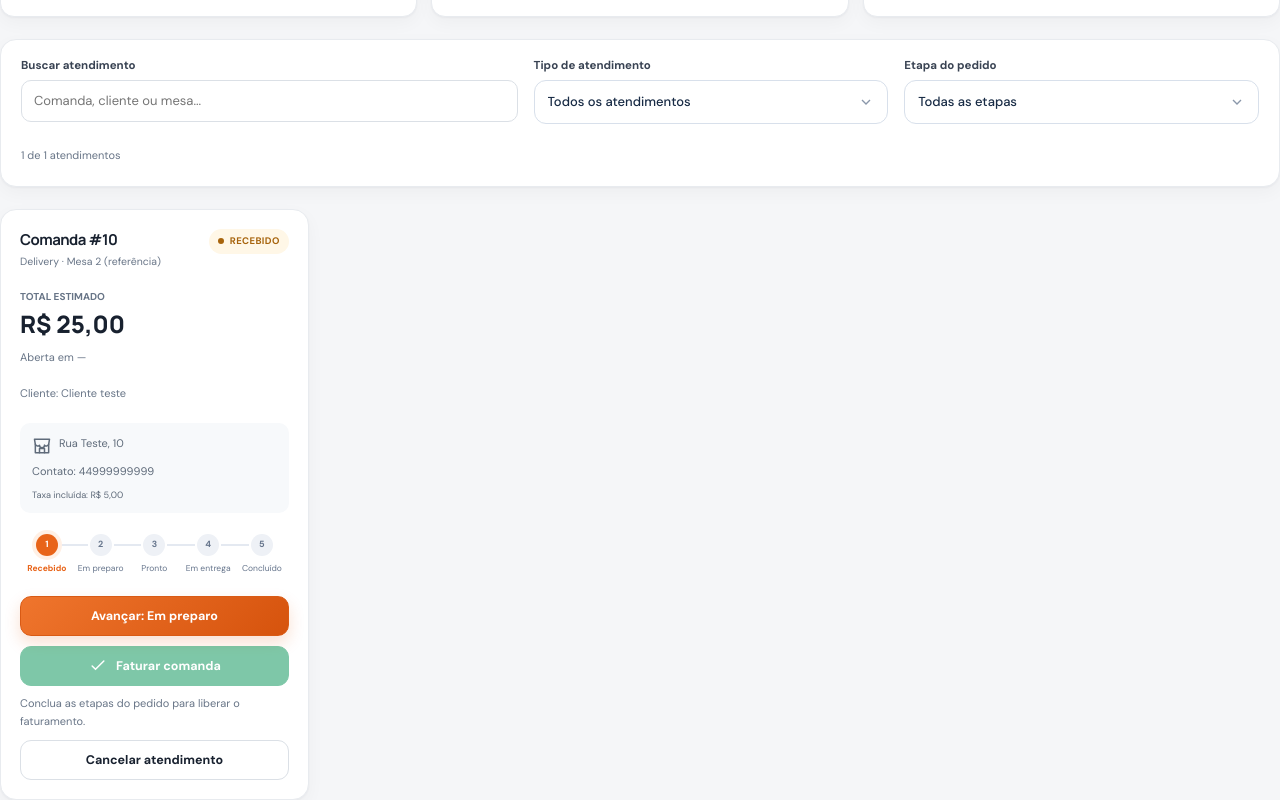
cancelamento administrativo confirma a intenção e mostra falhas no dialog
(page scrolled)
Expected: the heading "Comanda #10" is shown, [20,229,117,250]
Click the button "Cancelar atendimento".
click(154, 760)  # box [20,740,289,780]
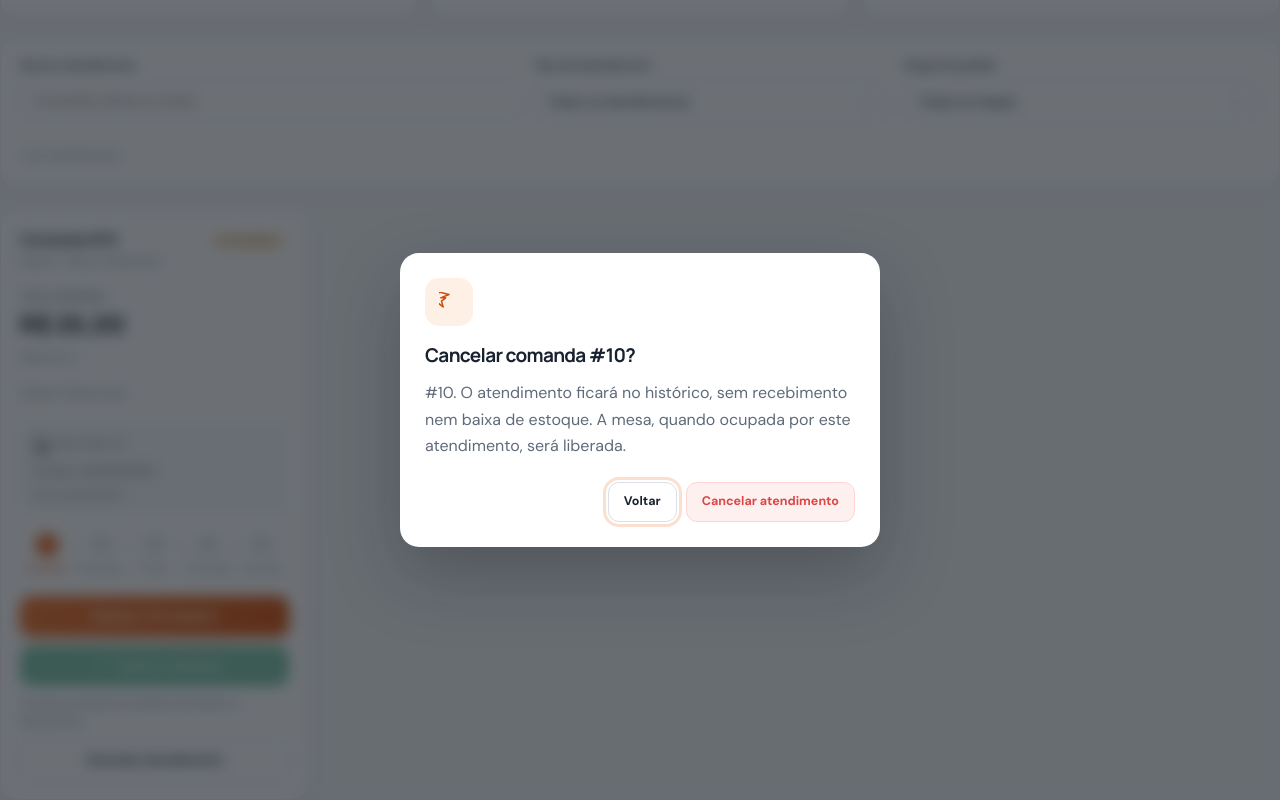
Click the button "Cancelar atendimento".
click(770, 502)  # box [686,482,855,522]
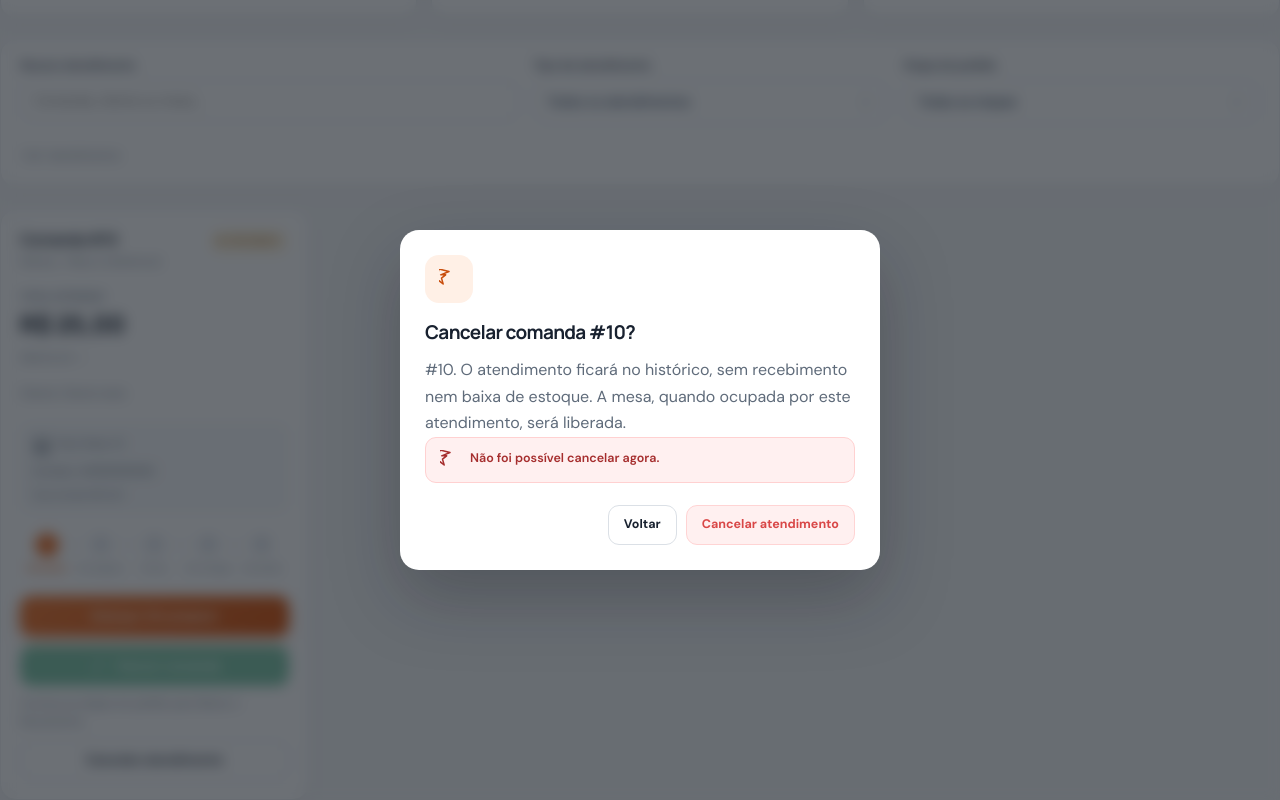
Expected: the message reads "Não foi possível cancelar agora.", [470,450,659,466]
Click the button "Cancelar atendimento".
click(770, 525)  # box [686,505,855,545]
(page scrolled)
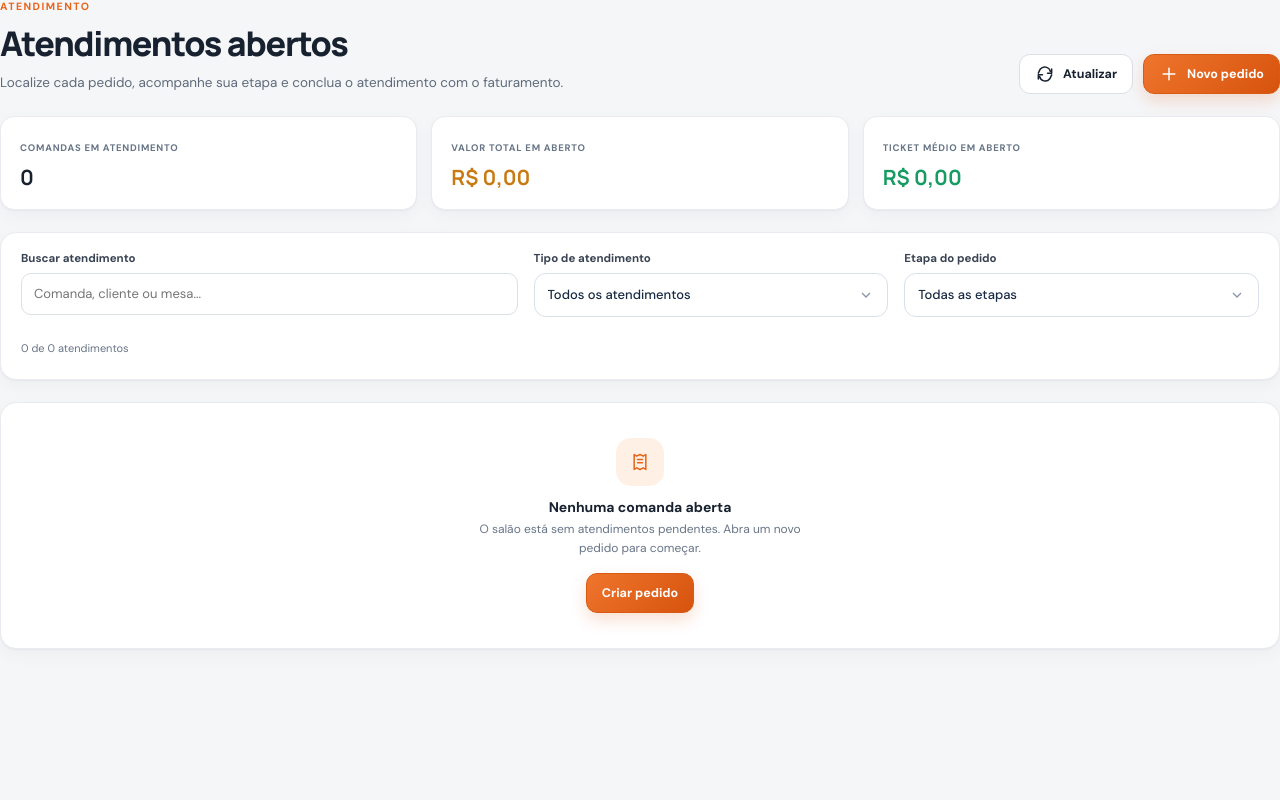
Expected: the dialog is gone
Expected: the text "Nenhuma comanda aberta" is shown, [549,498,731,516]
